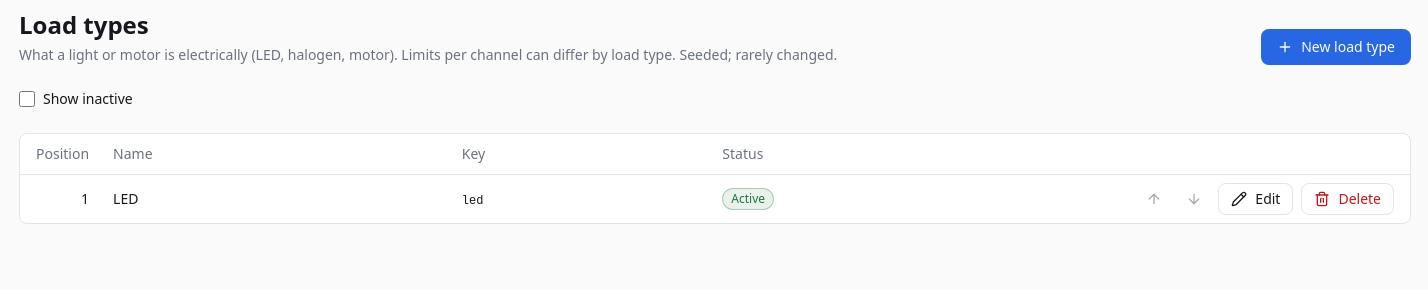
Test: LoadTypesPage › lists active load types and shows inactive ones on request
Expected: the text "LED" is shown, left=101, top=174, right=450, bottom=223
What coordinates should you click on to do the following:
click the checkbox labelled "Show inactive"
I would click on:
 (27, 99)
Its box is left=19, top=91, right=35, bottom=107.
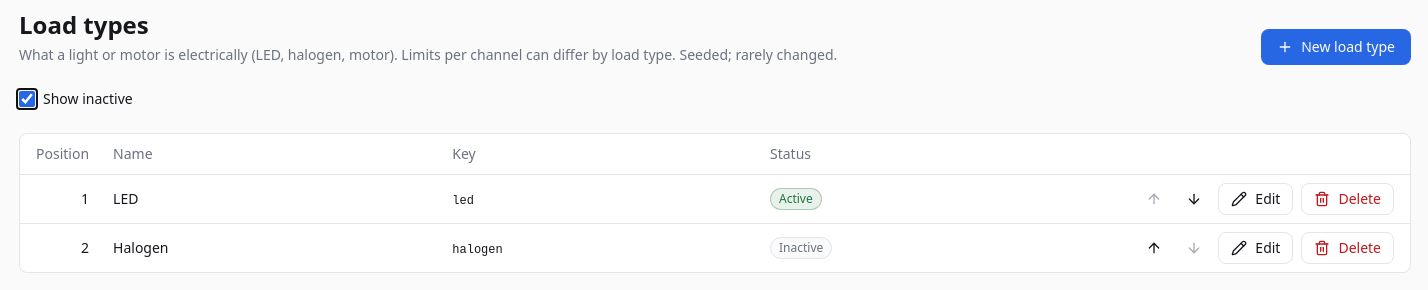
Expected: the text "Halogen" is shown, left=101, top=224, right=440, bottom=272
